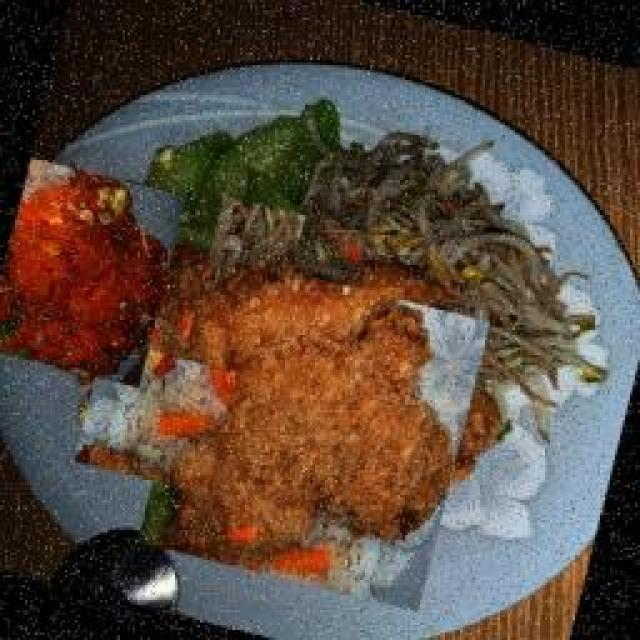carrot_eggs: (0, 158, 188, 388)
fried_chicken: (125, 208, 518, 601)
mung_bean_sprouts: (293, 138, 583, 338)
rice: (78, 335, 238, 495)
